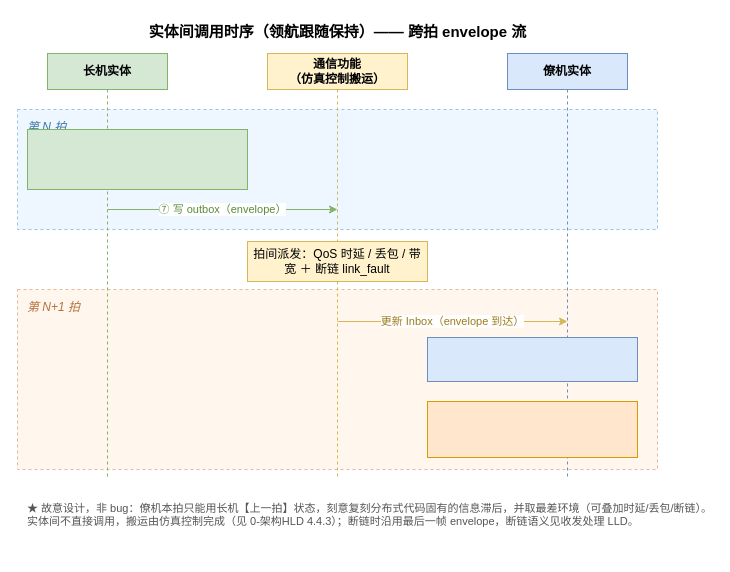
This 730x572 diagram has some shape labels left out. The centre of each missing label's shape, as x and y in pixels:
① 收消息：读到的是 长机【第 N 拍】的 leader_nav: the point at 532,359
④⑤⑥ 用第 N 拍长机状态算槽位/控制 → 跨拍滞后（≥1 拍，再叠加通信时延）: the point at 532,429
第 N 拍 · 长机 step ②产模态 ③航段 ④目标 ⑤误差 ⑥跟踪 → 产出 outbox(leader_nav/队形/槽位): the point at 137,159
